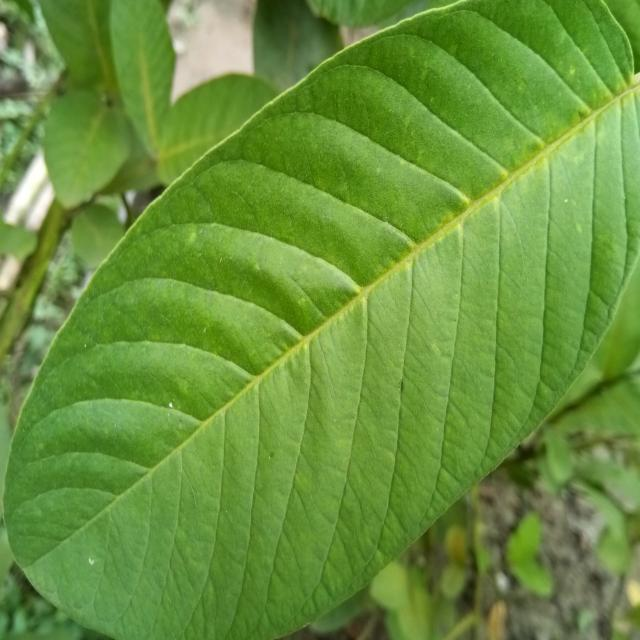Disease Free: (5, 2, 640, 637)
